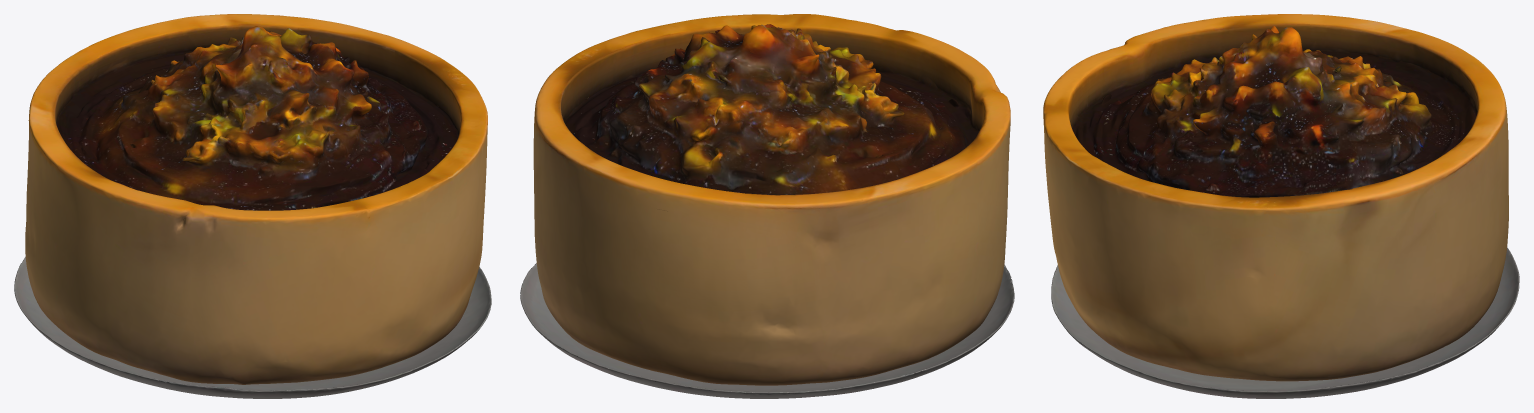
File: Gulkand.glb
3 renders of one model, left to right at view 1: azimuth 30°, elevation 25°; view 2: azimuth 150°, elevation 25°; view 3: azimuth 270°, elevation 25°, orthographic. The views are drawn at different scales.
Visible parts, largest first — view 1: vrin_node_5f9e2f00-f07b-48cf-800c-e7e7ca964330; view 2: vrin_node_5f9e2f00-f07b-48cf-800c-e7e7ca964330; view 3: vrin_node_5f9e2f00-f07b-48cf-800c-e7e7ca964330.
Boxes of the visible parts, x1,y1,x2,y2 form: vrin_node_5f9e2f00-f07b-48cf-800c-e7e7ca964330: [14, 14, 491, 398]; vrin_node_5f9e2f00-f07b-48cf-800c-e7e7ca964330: [520, 14, 1014, 398]; vrin_node_5f9e2f00-f07b-48cf-800c-e7e7ca964330: [1043, 14, 1519, 398].
Size of the model in its own units: 0.9999 by 0.6956 by 0.9989.
Materials: 1 (1 with a texture image).
